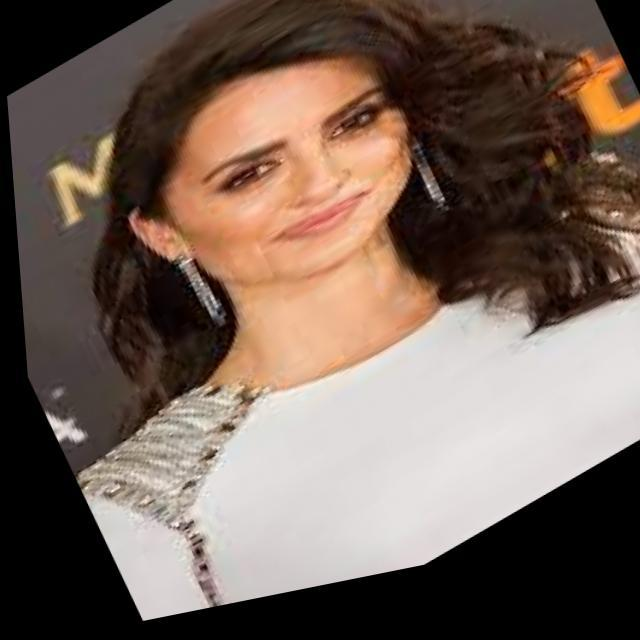Nonhelmet: (87, 2, 452, 333)
